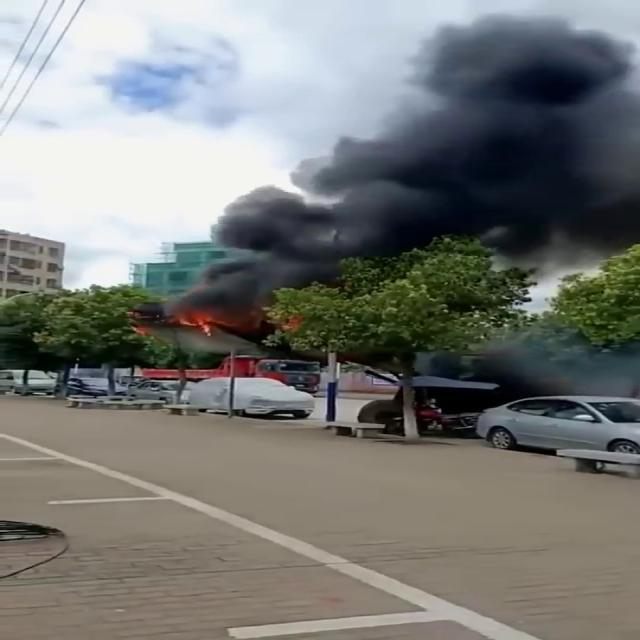Smoke: (198, 6, 638, 313)
